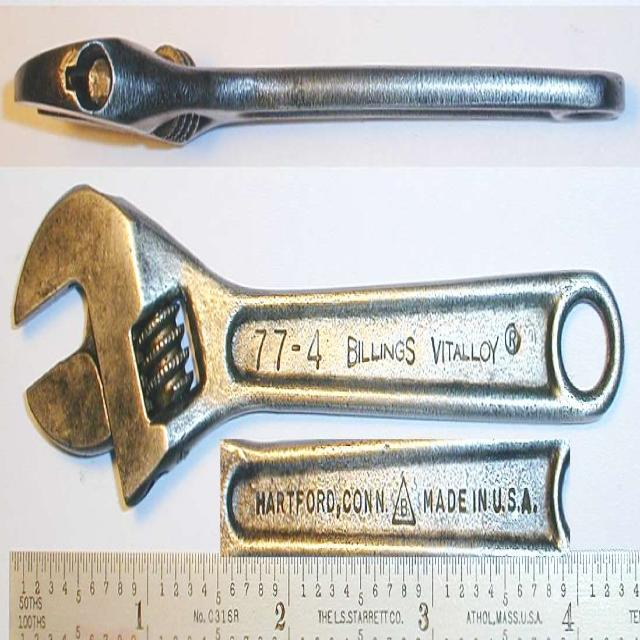wrench: (6, 171, 640, 520)
